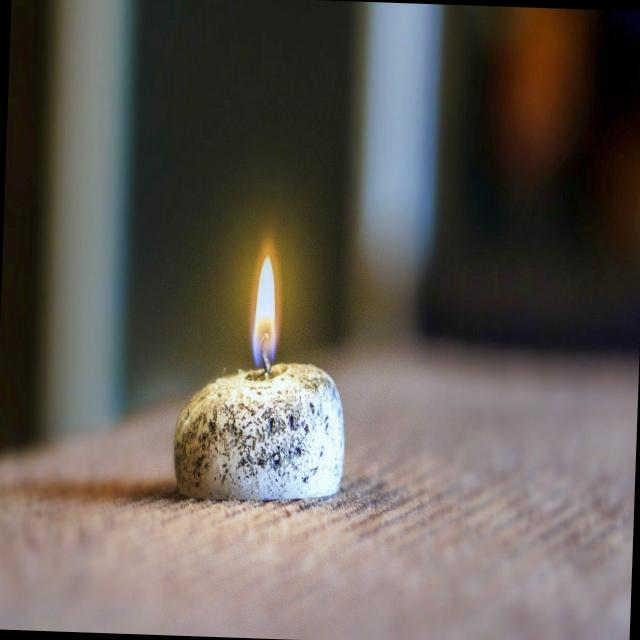Fire_Save: (170, 249, 352, 505), (250, 252, 280, 370)
